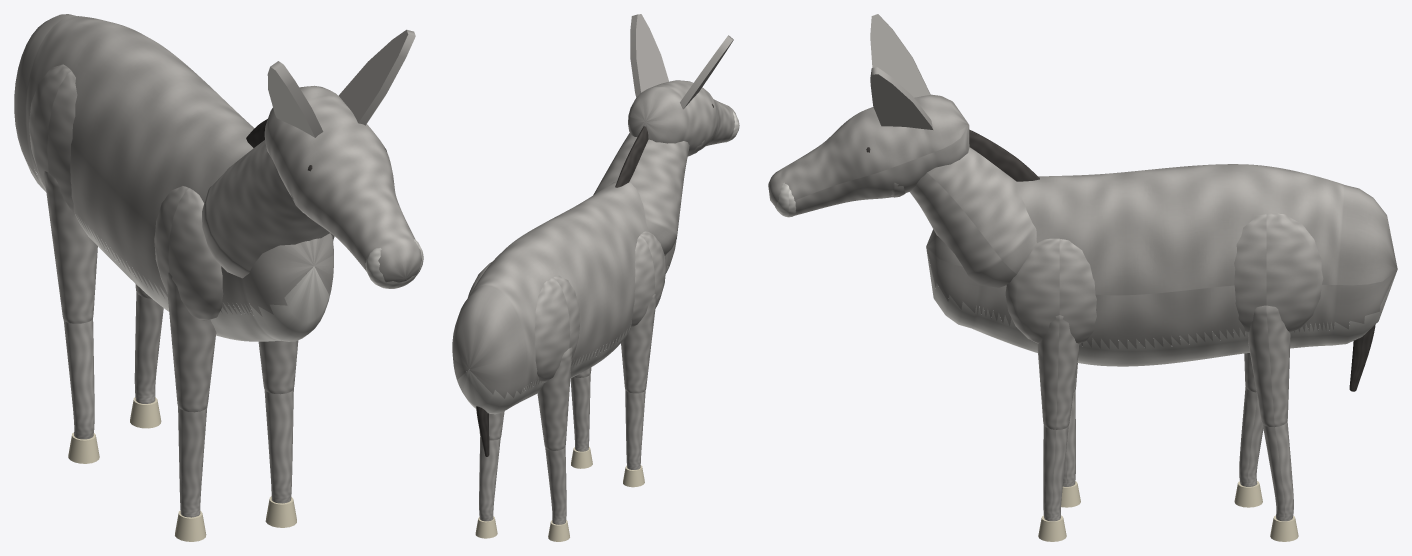
The model's file is farm-and-working-animals-hd-donkey-a52f4392__29195.glb.
The picture shows the model from 3 angles, left to right: view 1: azimuth 30°, elevation 25°; view 2: azimuth 150°, elevation 25°; view 3: azimuth 270°, elevation 25°; orthographic projection. The views are drawn at different scales.
Visible parts, largest first — view 1: donkey; view 2: donkey; view 3: donkey.
Boxes of the visible parts, <box> form: donkey: <box>14,14,423,541</box>; donkey: <box>452,14,739,541</box>; donkey: <box>768,14,1397,541</box>.
Size of the model in its own units: 0.4376 by 1.63 by 1.94.
Materials: 4 (3 with a texture image).
